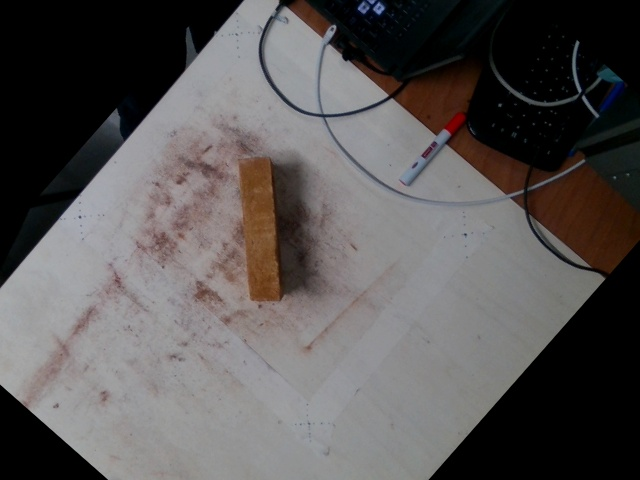brick-side: (240, 156, 280, 299)
